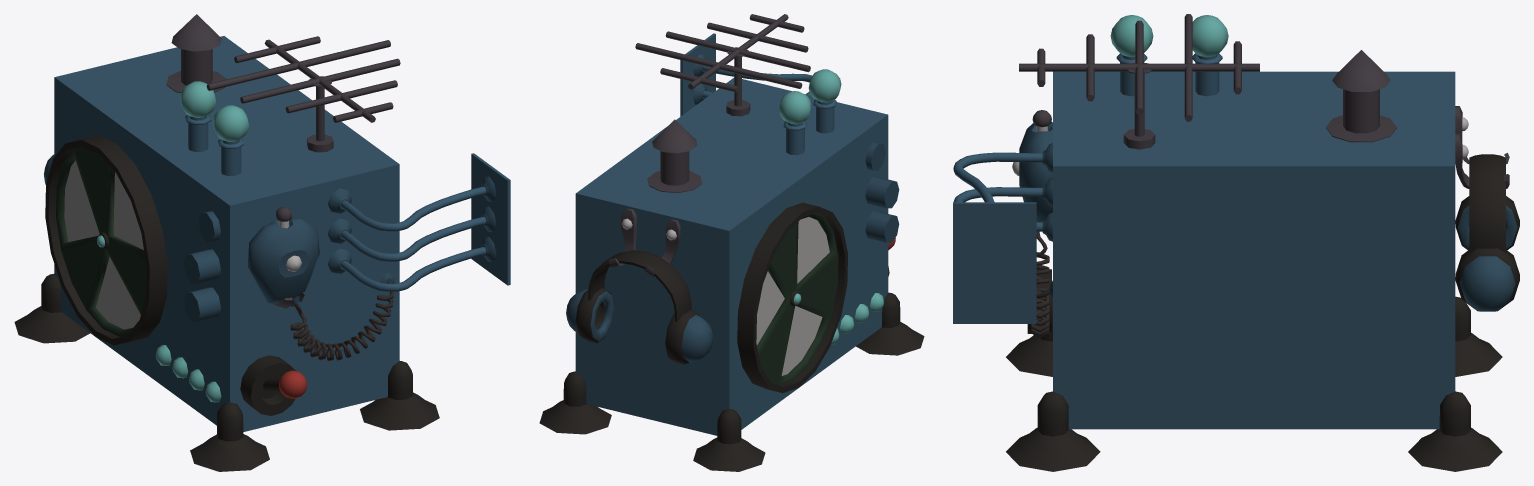
The model's file is 114_radio_broadcaster.glb.
3 views of the same model, side by side, from view 1: azimuth 30°, elevation 25°; view 2: azimuth 150°, elevation 25°; view 3: azimuth 270°, elevation 25° (orthographic). The views are drawn at different scales.
Visible parts, largest first — view 1: radio, disk, feet, mic and cable, cables, antenna, receptors, lever, buttons, chimney, lights, antenna support (+1 smaller); view 2: radio, disk, feet, headphones, antenna, receptors, chimney, headphones band, buttons, headphones holder, cables, lights (+2 smaller); view 3: radio, feet, headphones, chimney, receptors, headphones band, mic and cable, antenna, cables, antenna support, antenna base, headphones holder.
Part boxes in pixels (x1,y1,x2,y2): radio: (54,36,510,431); disk: (45,135,167,345); feet: (14,273,439,471); mic and cable: (247,207,394,361); cables: (327,176,496,291); antenna: (206,36,400,122); receptors: (180,81,248,176); lever: (240,355,306,415); buttons: (183,211,220,322); chimney: (166,14,226,92); lights: (155,345,221,402); antenna support: (264,39,375,122); radio: (575,33,888,435); disk: (737,202,847,393); feet: (539,292,924,471); headphones: (566,288,713,364); antenna: (635,14,810,92); receptors: (779,69,841,155); chimney: (647,119,702,193); headphones band: (588,250,691,321); buttons: (865,142,899,242); headphones holder: (608,208,680,277); cables: (693,54,811,104); lights: (831,293,883,344); radio: (953,71,1455,429); feet: (1006,296,1502,471); headphones: (1455,196,1519,311); chimney: (1326,50,1396,142); receptors: (1110,15,1228,96); headphones band: (1469,154,1505,252); mic and cable: (1019,110,1052,338); antenna: (1037,14,1241,121); cables: (953,143,1052,241); antenna support: (1019,63,1259,71); antenna base: (1123,62,1155,149); headphones holder: (1455,106,1509,188).
Size of the model in its own units: 1.35 by 1.5 by 2.12.
